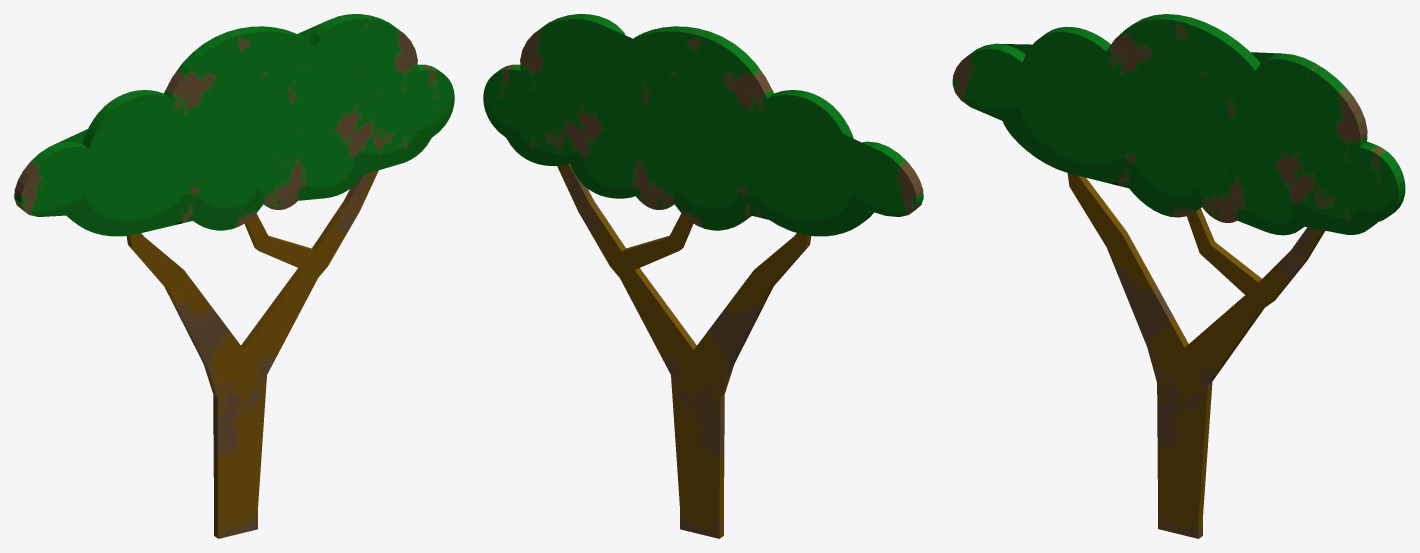
File: Arbol5Junto.fbx
3 renders of one model, left to right at view 1: azimuth 30°, elevation 25°; view 2: azimuth 150°, elevation 25°; view 3: azimuth 330°, elevation 25°, orthographic. The views are drawn at different scales.
Visible parts, largest first — view 1: arbol 5; view 2: arbol 5; view 3: arbol 5.
Boxes of the visible parts, x1=… form: arbol 5: x1=14, y1=14, x2=454, y2=538; arbol 5: x1=483, y1=14, x2=923, y2=538; arbol 5: x1=952, y1=14, x2=1405, y2=538.
Bounding box in the file's own units: 642 × 708 × 17.73.
